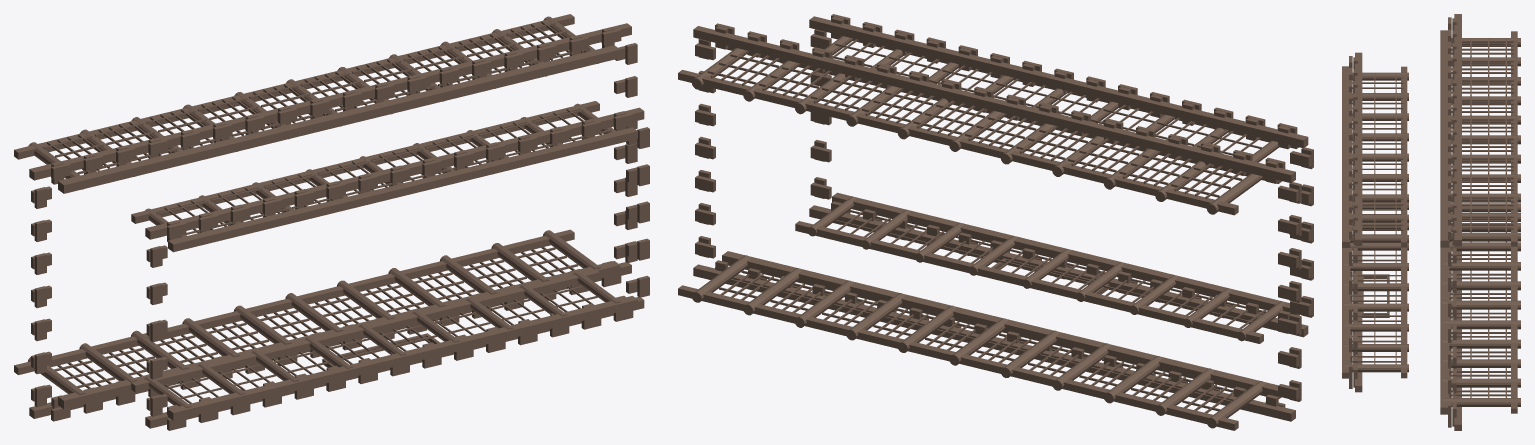
The model's file is SM_Zhengximen_DarkTimber.glb.
3 renders of one model, left to right at view 1: azimuth 30°, elevation 25°; view 2: azimuth 150°, elevation 25°; view 3: azimuth 270°, elevation 25°, orthographic. The views are drawn at different scales.
Visible parts, largest first — view 1: world; view 2: world; view 3: world.
Boxes of the visible parts, box(x1,y1,x2,y2) form: world: box(14, 14, 649, 430); world: box(678, 14, 1313, 430); world: box(1342, 14, 1520, 430).
Size of the model in its own units: 20.32 by 8.18 by 6.76.
